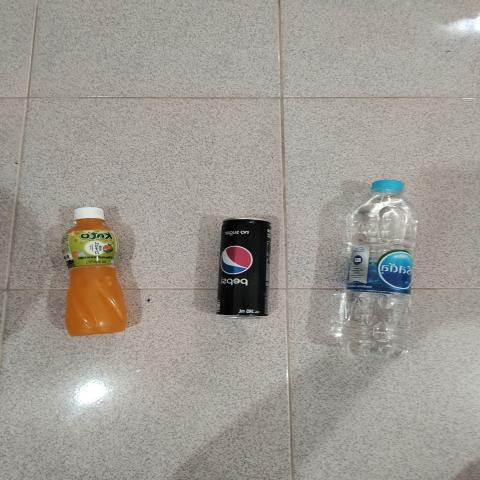crystal: (348, 177, 405, 355)
pepsi_black: (222, 221, 270, 313)
